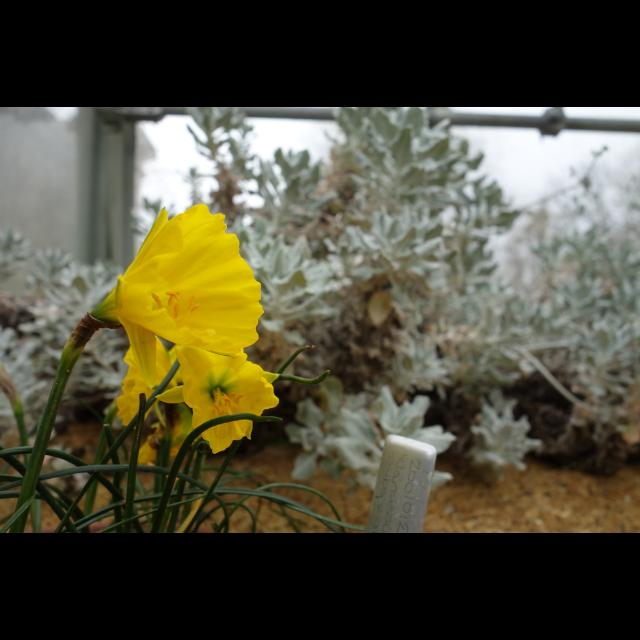Flower: (96, 195, 260, 429), (134, 349, 278, 461)
